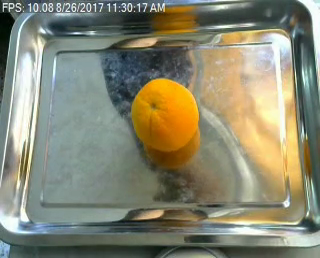Orange: (131, 77, 199, 151)
